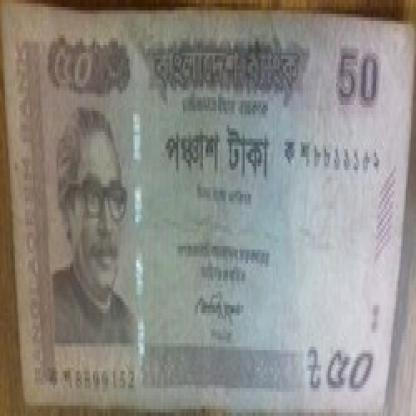Fifty taka: (158, 118, 278, 197), (298, 326, 384, 399), (43, 35, 103, 97)
